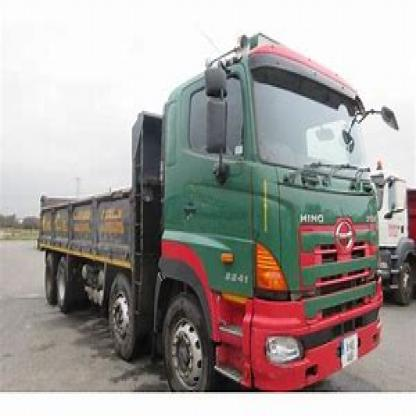dump_truck: (34, 30, 386, 396)
